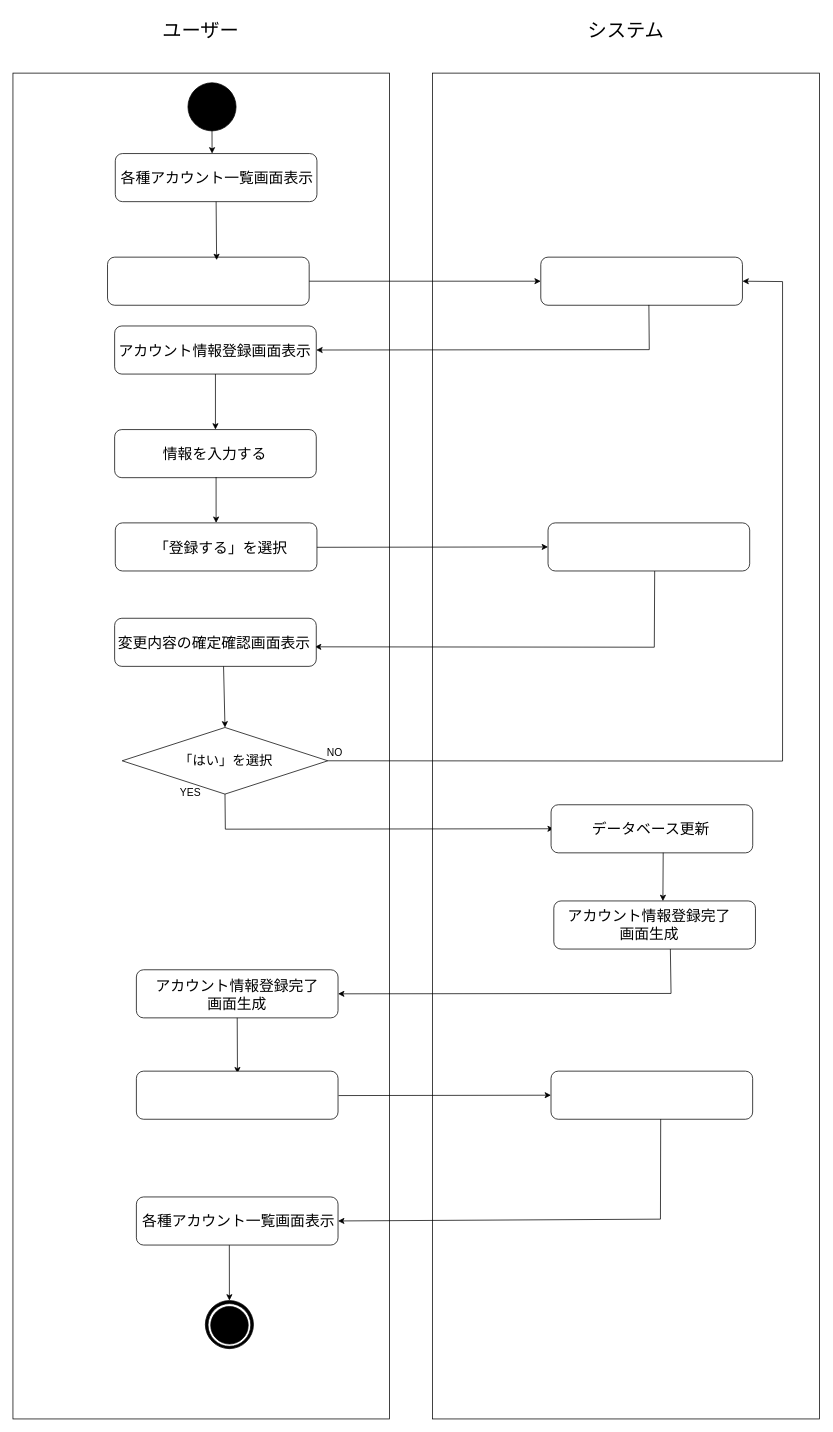
The diagram is 833 pixels wide and 1432 high, and some of its shapes have lost their labels. Each missing label, with the box of its shape:
「戻る」を選択: (136, 1070, 338, 1119)
「登録」を選択: (107, 256, 309, 305)
アカウント情報登録画面生成: (540, 256, 742, 305)
各種アカウント一覧画面生成: (550, 1070, 753, 1119)
変更内容の確定確認画面生成: (547, 522, 750, 571)
